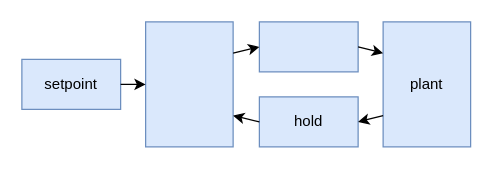
The diagram is 493 pixels wide and 169 high, and some of its shapes have lost their labels. Here are the shapes that lost their labels. From the top down, the box of each, then its label:
(258, 21, 358, 72): actuator
(144, 21, 233, 147): controller
